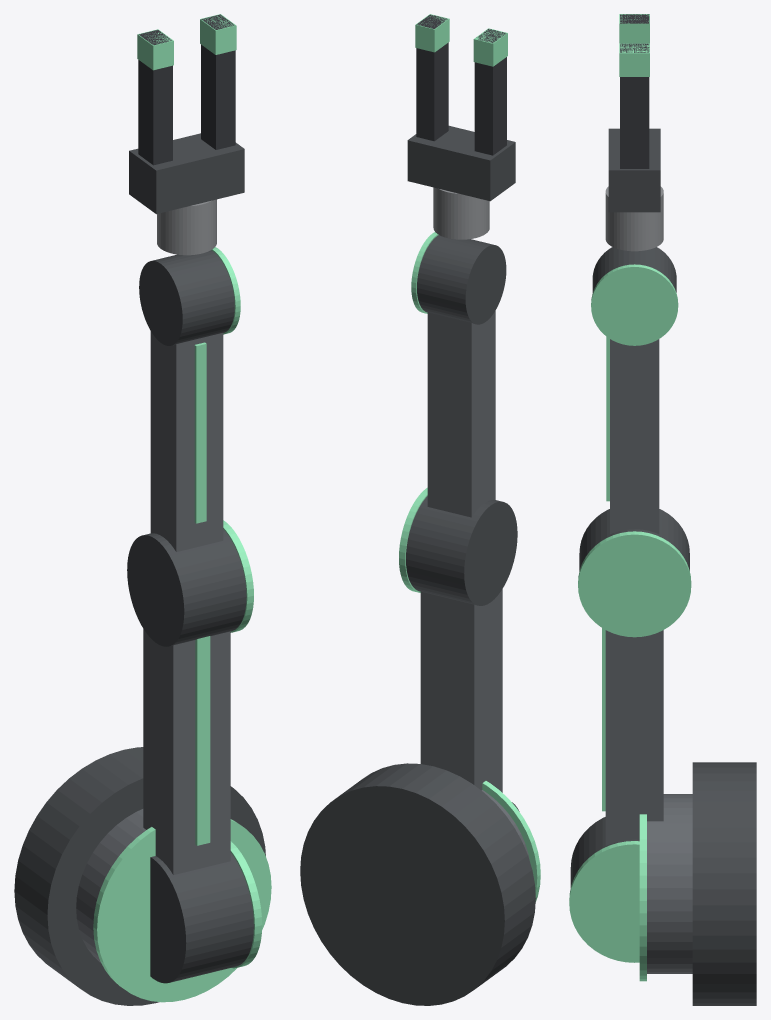
Rendered from robotic-arm-v2.glb.
The picture shows the model from 3 angles, left to right: view 1: azimuth 30°, elevation 25°; view 2: azimuth 150°, elevation 25°; view 3: azimuth 270°, elevation 25°; orthographic projection. The views are drawn at different scales.
Visible parts, largest first — view 1: Base_Mesh, UpperArm_Mesh, Forearm_Mesh, Shoulder_Housing, Elbow_Housing, Base_LED, Wrist_Housing, Gripper_Palm, Jaw_Left_Mesh, Jaw_Right_Mesh, UpperArm_LED, Base_Tower (+7 smaller); view 2: Base_Mesh, UpperArm_Mesh, Forearm_Mesh, Elbow_Housing, Wrist_Housing, Gripper_Palm, Jaw_Right_Mesh, Jaw_Left_Mesh, Tool_Mount, Base_LED, Jaw_Left_LED, Jaw_Right_LED (+1 smaller); view 3: Base_Mesh, UpperArm_Mesh, Elbow_LED, Forearm_Mesh, Base_Tower, Shoulder_LED, Wrist_LED, Gripper_Palm, Jaw_Right_Mesh, Tool_Mount, Elbow_Housing, Wrist_Housing (+6 smaller).
Part boxes in pixels (<box>): Base_Mesh: <box>14,747,265,1005</box>; UpperArm_Mesh: <box>143,629,230,874</box>; Forearm_Mesh: <box>150,331,223,551</box>; Shoulder_Housing: <box>150,853,253,983</box>; Elbow_Housing: <box>127,529,246,646</box>; Base_LED: <box>93,819,271,1002</box>; Wrist_Housing: <box>139,250,234,345</box>; Gripper_Palm: <box>129,133,244,214</box>; Jaw_Left_Mesh: <box>138,29,172,165</box>; Jaw_Right_Mesh: <box>201,14,235,149</box>; UpperArm_LED: <box>195,636,210,845</box>; Base_Tower: <box>76,809,145,962</box>; Base_Mesh: <box>300,763,535,1005</box>; UpperArm_Mesh: <box>420,589,502,792</box>; Forearm_Mesh: <box>427,311,495,517</box>; Elbow_Housing: <box>406,496,517,605</box>; Wrist_Housing: <box>417,235,506,324</box>; Gripper_Palm: <box>407,125,515,201</box>; Jaw_Right_Mesh: <box>416,14,448,141</box>; Jaw_Left_Mesh: <box>474,29,506,155</box>; Tool_Mount: <box>433,187,489,239</box>; Base_LED: <box>482,781,540,901</box>; Jaw_Left_LED: <box>473,28,507,66</box>; Jaw_Right_LED: <box>415,14,449,52</box>; Base_Mesh: <box>692,762,756,1005</box>; UpperArm_Mesh: <box>605,630,663,845</box>; Elbow_LED: <box>578,531,691,637</box>; Forearm_Mesh: <box>610,339,659,534</box>; Base_Tower: <box>647,794,692,973</box>; Shoulder_LED: <box>569,841,639,962</box>; Wrist_LED: <box>591,264,678,345</box>; Gripper_Palm: <box>608,128,660,212</box>; Jaw_Right_Mesh: <box>620,43,649,168</box>; Tool_Mount: <box>605,186,663,251</box>; Elbow_Housing: <box>579,509,689,571</box>; Wrist_Housing: <box>592,247,676,292</box>.
Bounding box in the file's own units: 0.84 × 3.65 × 0.645.
